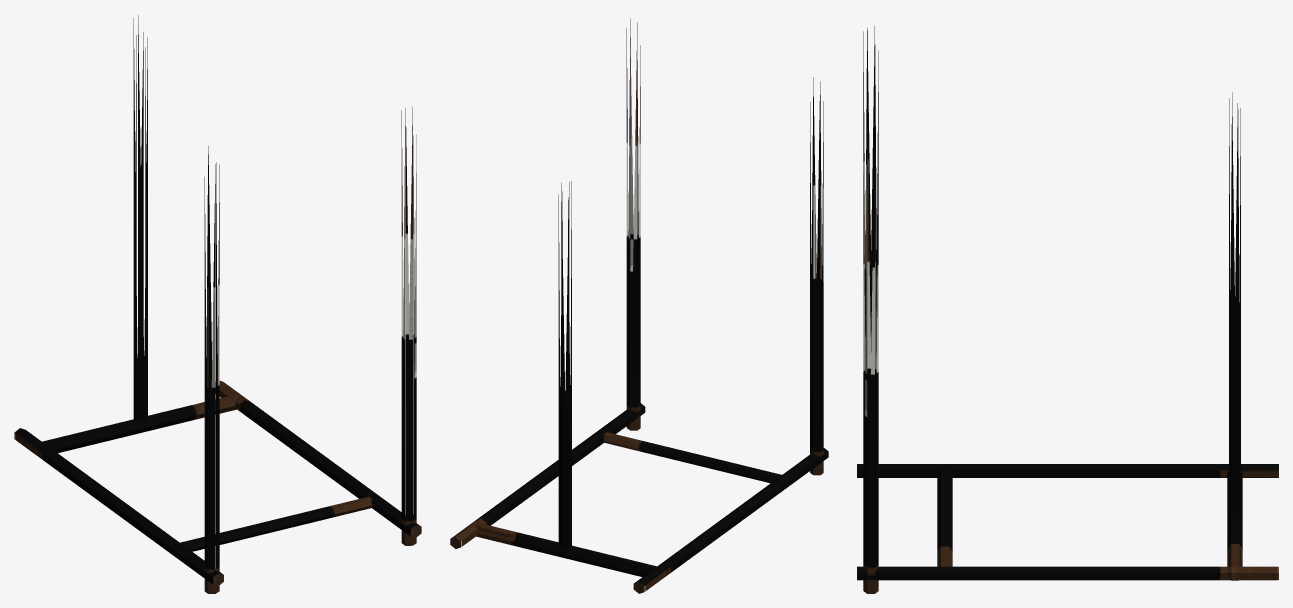
3 renders of one model, left to right at view 1: azimuth 30°, elevation 25°; view 2: azimuth 150°, elevation 25°; view 3: azimuth 270°, elevation 25°, orthographic. The views are drawn at different scales.
Size of the model in its own units: 0.8212 by 1.67 by 1.35.
